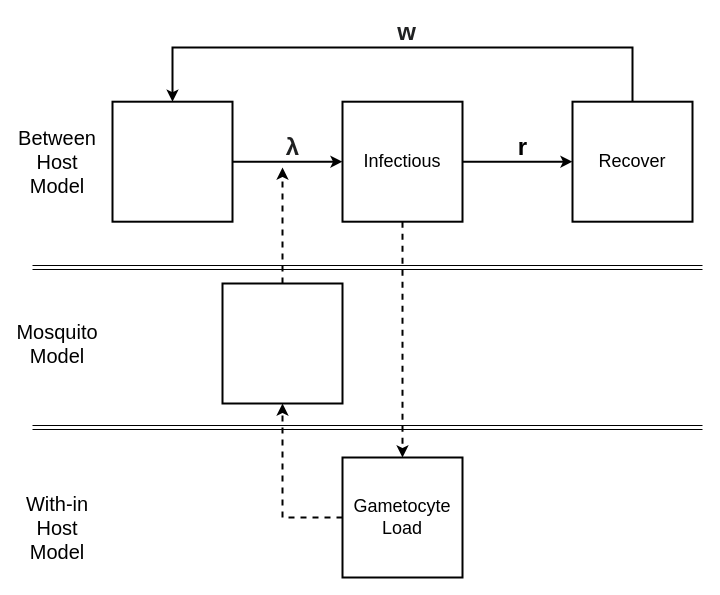
Image size: 720x595. Some labels were removed from this diagram. Here are the shapes that lost their labels. From the top down, the box of each, then its label:
(111, 100, 233, 222): Suspectible
(221, 282, 343, 404): Mosq Infectious
